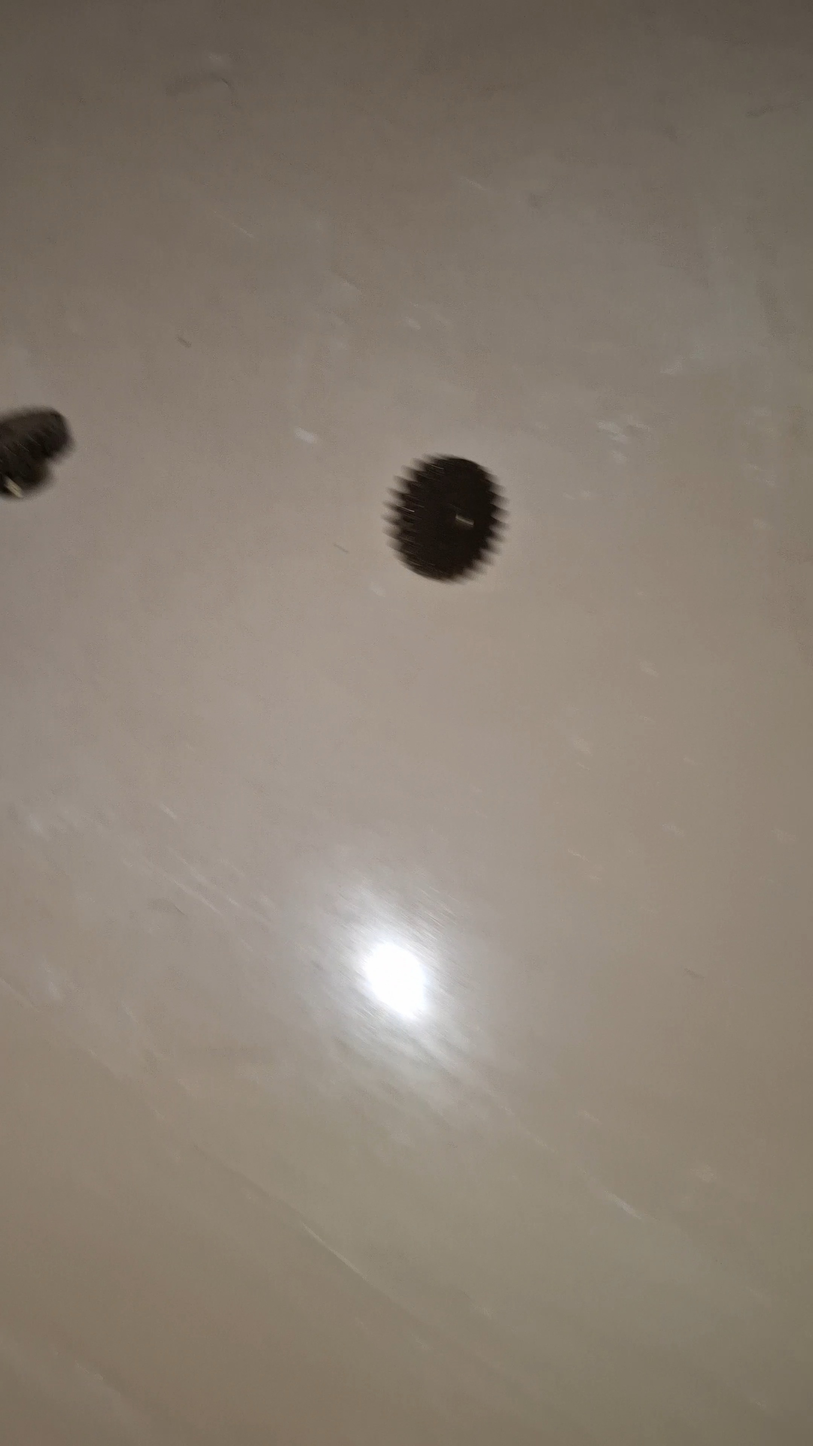spur gear: (388, 456, 503, 580), (0, 408, 70, 496)
